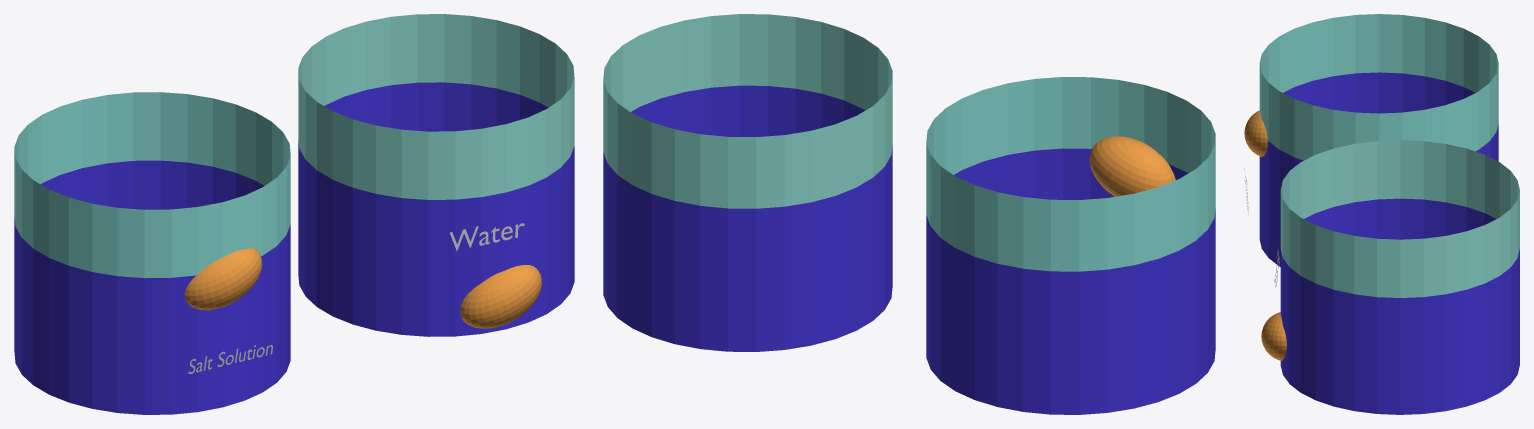
File: density.gltf
3 views of the same model, side by side, from view 1: azimuth 30°, elevation 25°; view 2: azimuth 150°, elevation 25°; view 3: azimuth 270°, elevation 25° (orthographic). The views are drawn at different scales.
Parts seen in each view (by area): view 1: Cylinder.001, Cylinder.004, Cylinder.003, Cylinder.002, Sphere, Sphere.001, Text, Text.001; view 2: Cylinder.004, Cylinder.001, Cylinder.003, Cylinder.002, Sphere.001; view 3: Cylinder.004, Cylinder.003, Cylinder.002, Cylinder.001, Sphere, Sphere.001.
Part boxes in pixels (<box>): Cylinder.001: <box>14,160,290,414</box>; Cylinder.004: <box>298,82,574,336</box>; Cylinder.003: <box>298,14,574,199</box>; Cylinder.002: <box>14,92,290,278</box>; Sphere: <box>460,265,541,328</box>; Sphere.001: <box>184,248,262,310</box>; Text: <box>450,223,524,250</box>; Text.001: <box>188,345,272,373</box>; Cylinder.004: <box>603,85,892,351</box>; Cylinder.001: <box>926,148,1215,414</box>; Cylinder.003: <box>603,14,892,208</box>; Cylinder.002: <box>926,77,1215,271</box>; Sphere.001: <box>1089,136,1175,196</box>; Cylinder.004: <box>1280,198,1519,414</box>; Cylinder.003: <box>1280,140,1519,297</box>; Cylinder.002: <box>1259,14,1498,160</box>; Cylinder.001: <box>1259,72,1498,266</box>; Sphere: <box>1261,312,1286,360</box>; Sphere.001: <box>1244,110,1267,156</box>.
Size of the model in its own units: 13.4 by 4.99 by 7.01.
